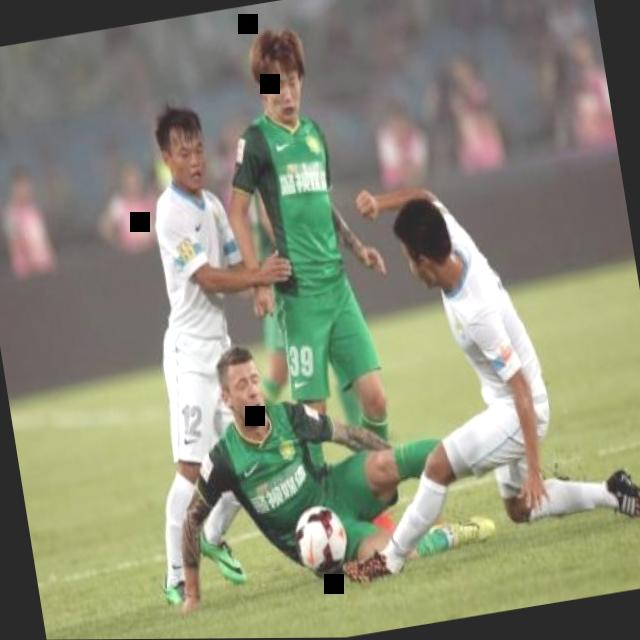Fall-Detected: (299, 135, 640, 585)
